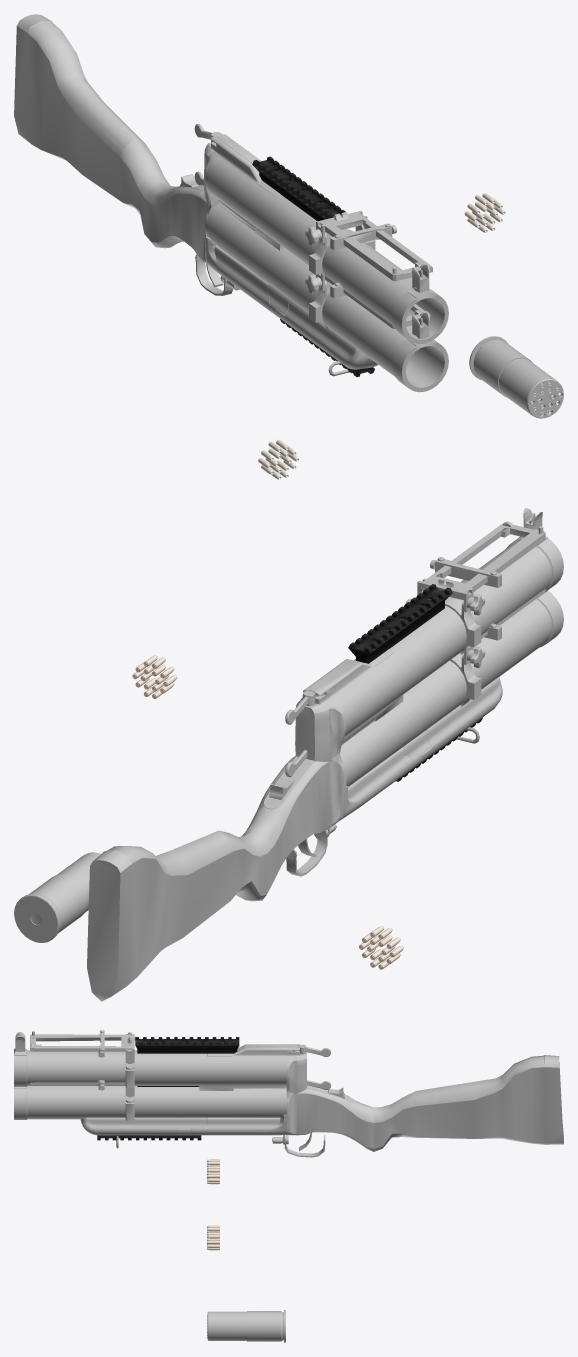
File: m79 uhhhhhhh.fbx
3 renders of one model, top to bottom at view 1: azimuth 30°, elevation 25°; view 2: azimuth 150°, elevation 25°; view 3: azimuth 270°, elevation 25°, orthographic. The views are drawn at different scales.
Visible parts, largest first — view 1: m79_doublebarrel, m79_stock_standalone_short, m79_stock_standalone, v_grenade_launcher, m79, m79_rail_doublebarrel, m79_stock_default, pistol_mag_bullet_1.017; view 2: m79_doublebarrel, m79_stock_standalone, m79_stock_standalone_short, m79_stock_default, v_grenade_launcher, m79_rail_doublebarrel, m79, m79_pirategun, pistol_mag_bullet_1.017; view 3: m79_doublebarrel, m79_pirategun, m79_stock_standalone, m79, m79_stock_default, m79_stock_standalone_short, v_grenade_launcher, m79_rail_doublebarrel, m79_rail.
Boxes of the visible parts, left/top/right/bottom form: m79_doublebarrel: left=175, top=124, right=448, bottom=391; m79_stock_standalone_short: left=14, top=14, right=144, bottom=199; m79_stock_standalone: left=14, top=14, right=206, bottom=261; v_grenade_launcher: left=469, top=336, right=563, bottom=418; m79: left=169, top=171, right=448, bottom=392; m79_rail_doublebarrel: left=252, top=156, right=345, bottom=221; m79_stock_default: left=17, top=14, right=176, bottom=248; pistol_mag_bullet_1.017: left=464, top=193, right=505, bottom=232; m79_doublebarrel: left=260, top=508, right=563, bottom=876; m79_stock_standalone: left=87, top=761, right=332, bottom=1000; m79_stock_standalone_short: left=88, top=830, right=233, bottom=1000; m79_stock_default: left=87, top=816, right=276, bottom=1001; v_grenade_launcher: left=14, top=852, right=100, bottom=942; m79_rail_doublebarrel: left=348, top=584, right=452, bottom=663; m79: left=270, top=588, right=545, bottom=874; m79_pirategun: left=241, top=654, right=480, bottom=856; pistol_mag_bullet_1.017: left=132, top=655, right=177, bottom=698; m79_doublebarrel: left=14, top=1030, right=356, bottom=1155; m79_pirategun: left=119, top=1080, right=373, bottom=1157; m79_stock_standalone: left=352, top=1055, right=563, bottom=1151; m79: left=14, top=1080, right=354, bottom=1156; m79_stock_default: left=357, top=1057, right=563, bottom=1150; m79_stock_standalone_short: left=416, top=1055, right=563, bottom=1144; v_grenade_launcher: left=207, top=1310, right=285, bottom=1342; m79_rail_doublebarrel: left=135, top=1037, right=239, bottom=1053; m79_rail: left=97, top=1086, right=201, bottom=1140.
Size of the model in its own units: 1668 by 1614 by 3675.
